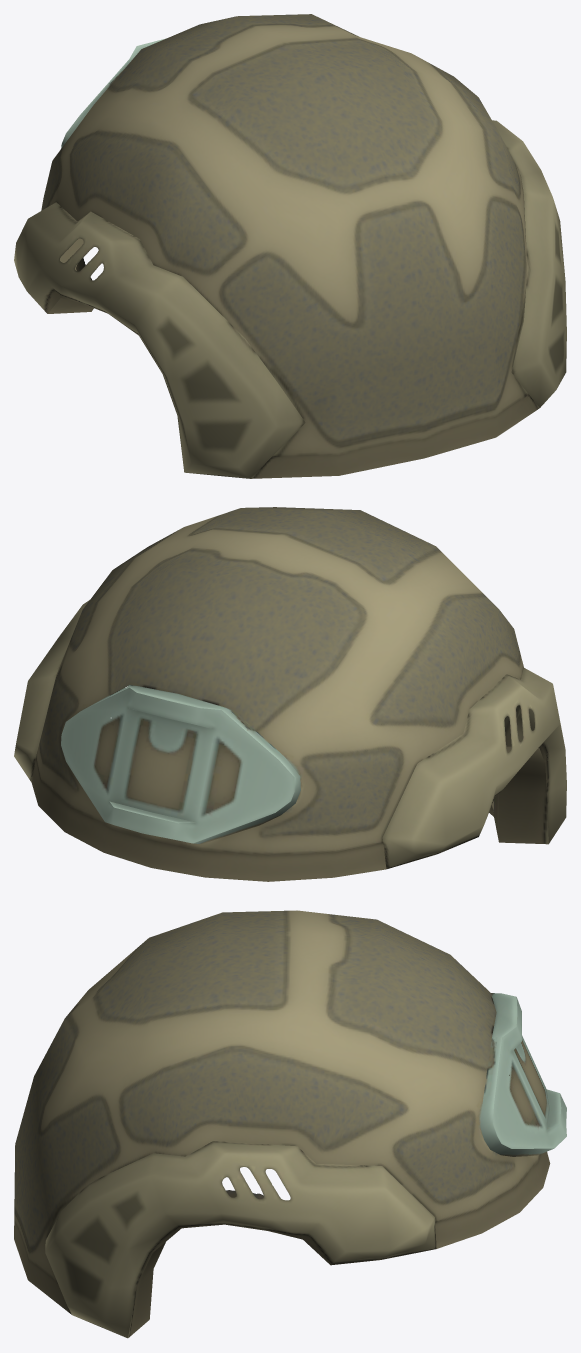
File: IG_Helmat_Lv4-2.fbx
3 views of the same model, one above another, from view 1: azimuth 30°, elevation 25°; view 2: azimuth 150°, elevation 25°; view 3: azimuth 270°, elevation 25° (orthographic). The views are drawn at different scales.
Parts seen in each view (by area): view 1: Ballistic Armor Co. Bastion; view 2: Ballistic Armor Co. Bastion; view 3: Ballistic Armor Co. Bastion.
Boxes of the visible parts, left/top/right/bottom form: Ballistic Armor Co. Bastion: left=14, top=14, right=566, bottom=478; Ballistic Armor Co. Bastion: left=14, top=507, right=566, bottom=881; Ballistic Armor Co. Bastion: left=14, top=910, right=566, bottom=1338.
Bounding box in the file's own units: 0.6277 × 0.423 × 0.6651.
